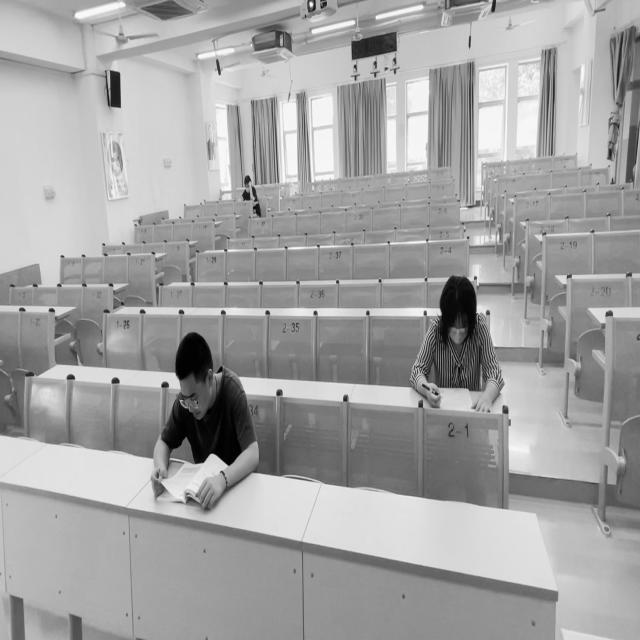study: (154, 340, 252, 512), (413, 280, 504, 404), (243, 176, 255, 198)
